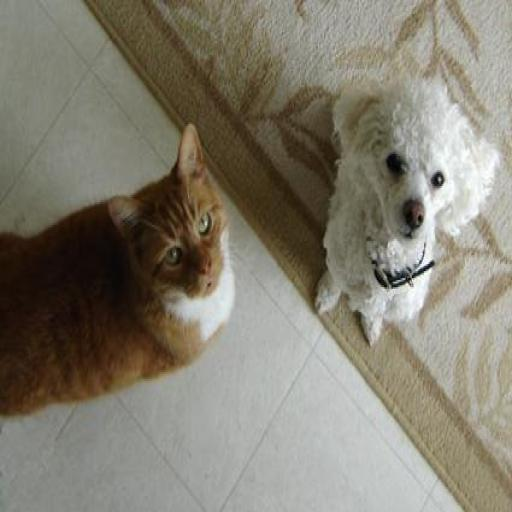dog_face: (337, 81, 493, 249)
